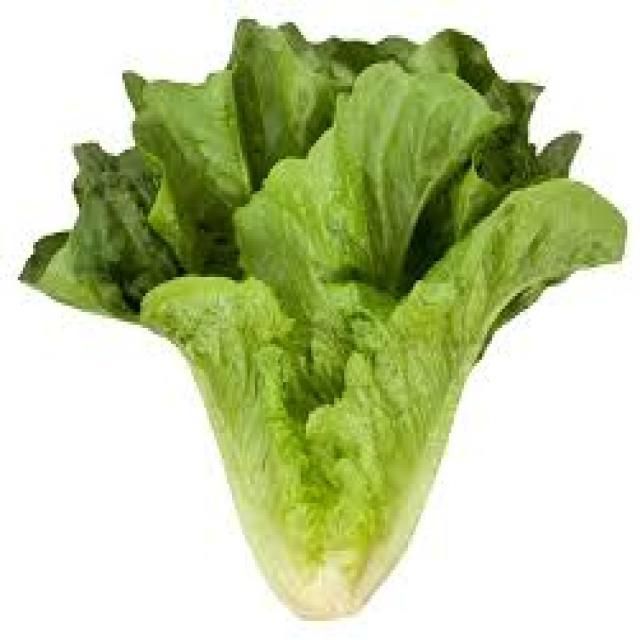Lettuce: (23, 16, 627, 624)
